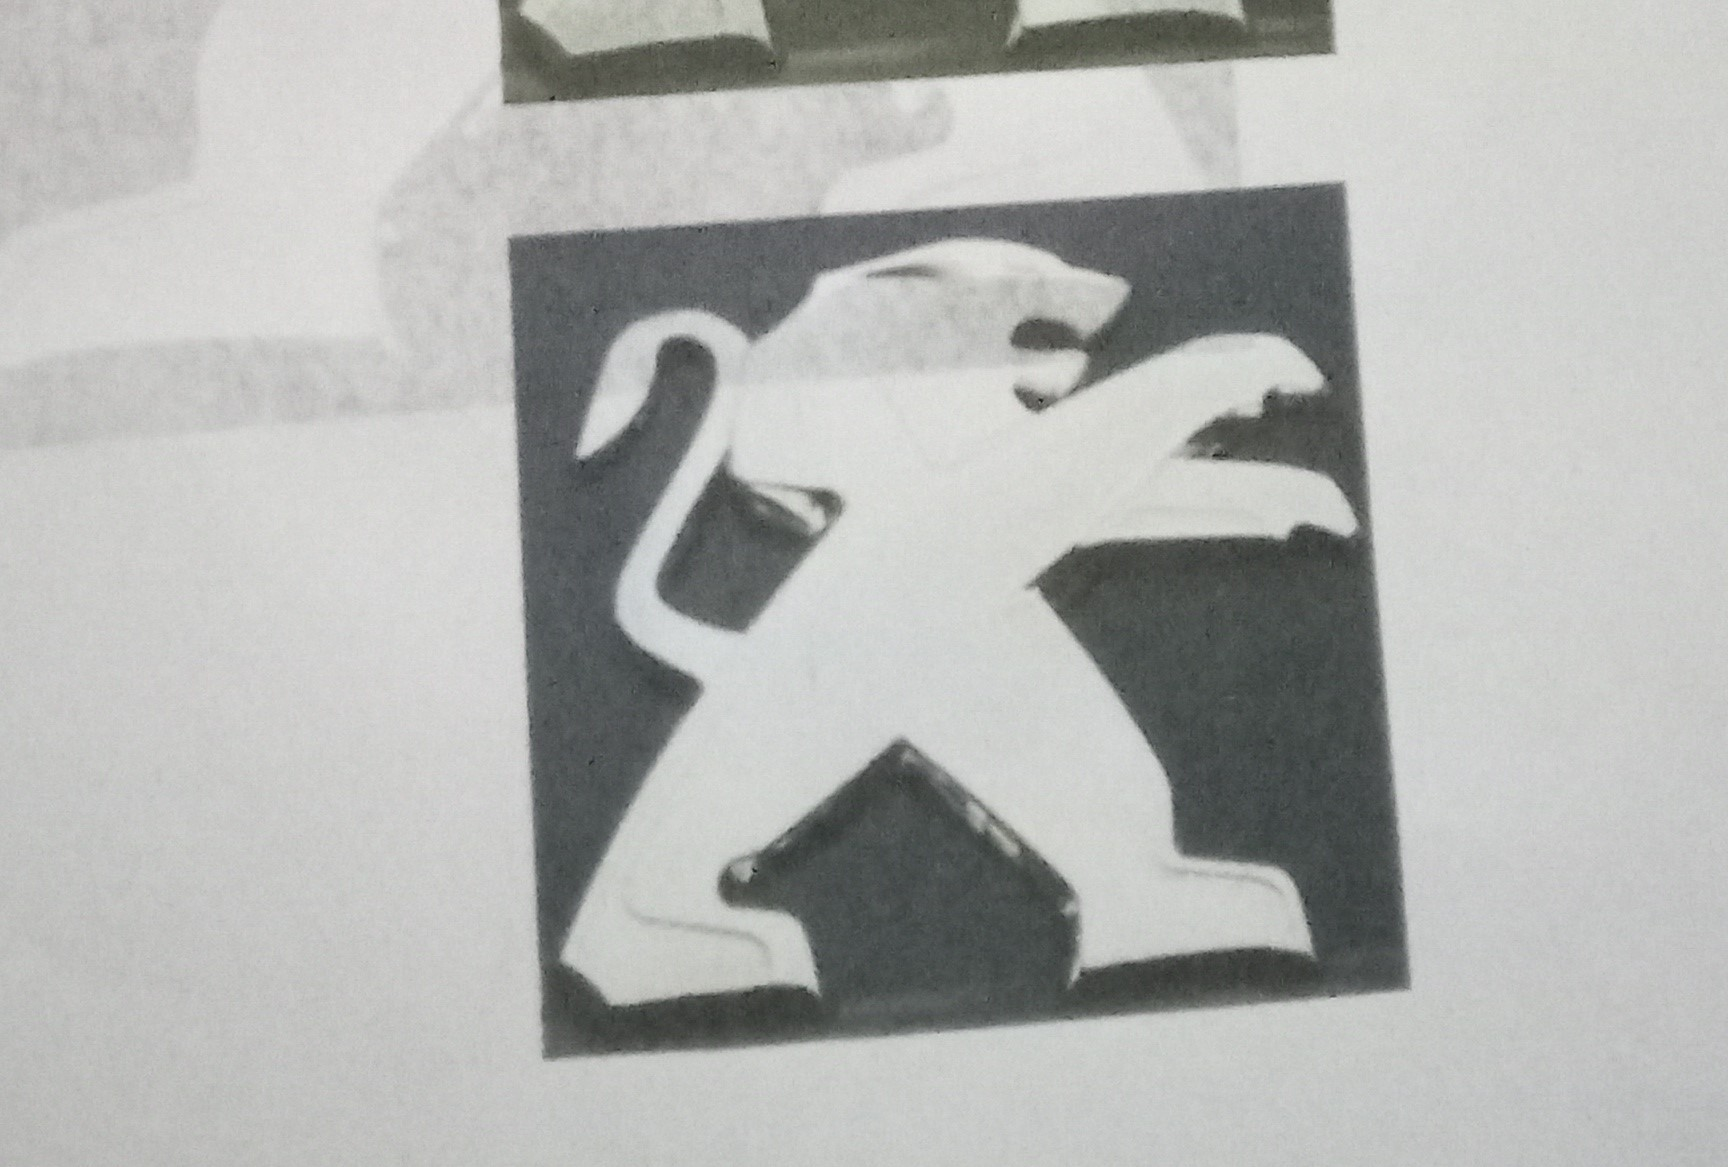Peugeot: (530, 225, 1363, 1028)
